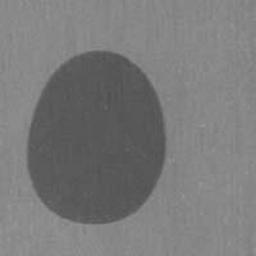Oil spot: (26, 47, 169, 225)
